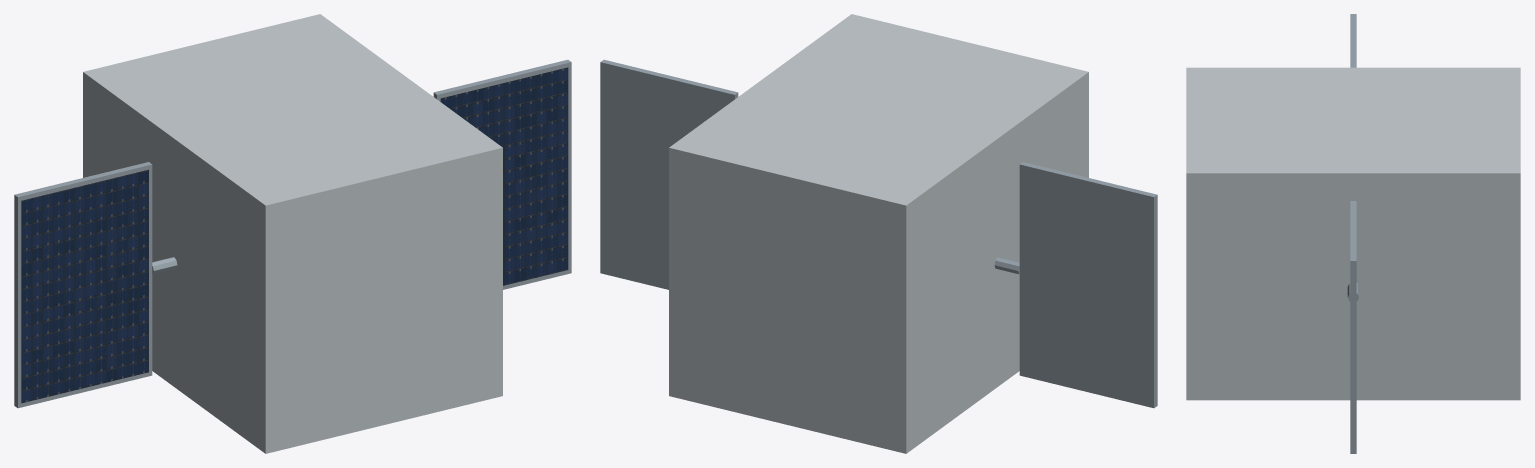
The model's file is ref-aso-s-54029.glb.
3 renders of one model, left to right at view 1: azimuth 30°, elevation 25°; view 2: azimuth 150°, elevation 25°; view 3: azimuth 270°, elevation 25°, orthographic. The views are drawn at different scales.
Parts seen in each view (by area): view 1: Spacecraft body, Photovoltaic laminates (×2), Array frame (×2); view 2: Spacecraft body, Array frame (×2); view 3: Spacecraft body, Array frame (×2).
Part boxes in pixels (x1=…): Spacecraft body: x1=83, y1=14, x2=502, y2=453; Photovoltaic laminates (×2): x1=21, y1=67, x2=568, y2=403; Array frame (×2): x1=14, y1=59, x2=571, y2=408; Spacecraft body: x1=669, y1=14, x2=1088, y2=453; Array frame (×2): x1=600, y1=59, x2=1157, y2=408; Spacecraft body: x1=1186, y1=67, x2=1520, y2=400; Array frame (×2): x1=1350, y1=14, x2=1356, y2=453.
Bounding box in the file's own units: 3.5 × 1.5 × 2.
Materials: 3 (1 with a texture image).
